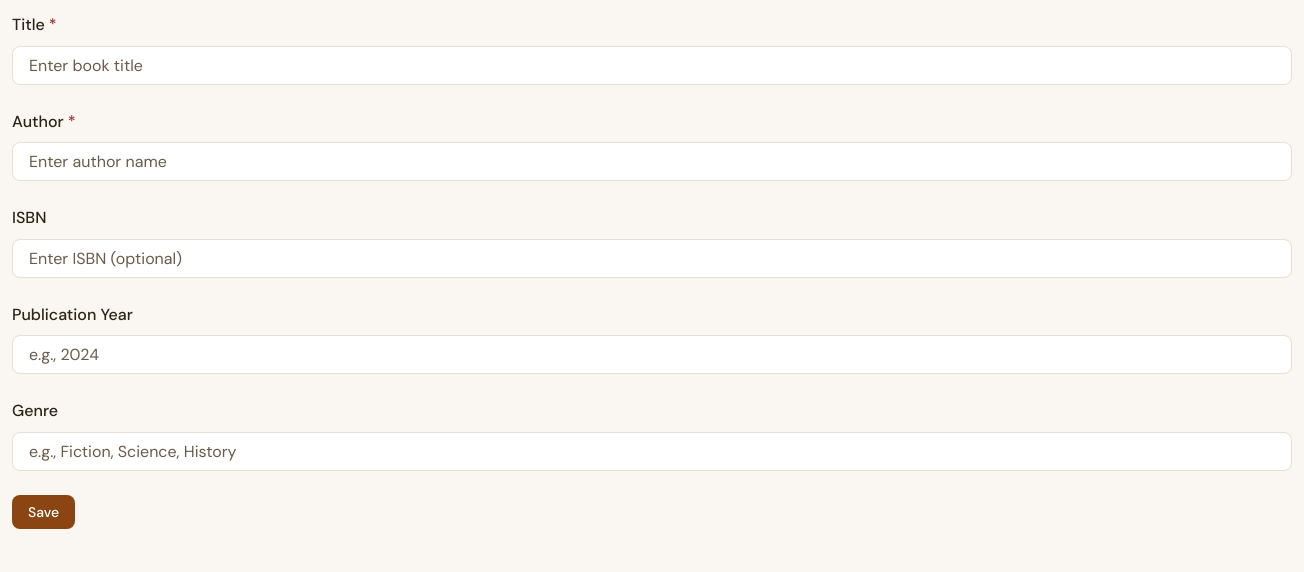
Test case: BookForm Component › should show validation error for empty author on submit
Type "Test Book" into the field with test id "title-input" at (652, 65), box [12,46,1292,85]
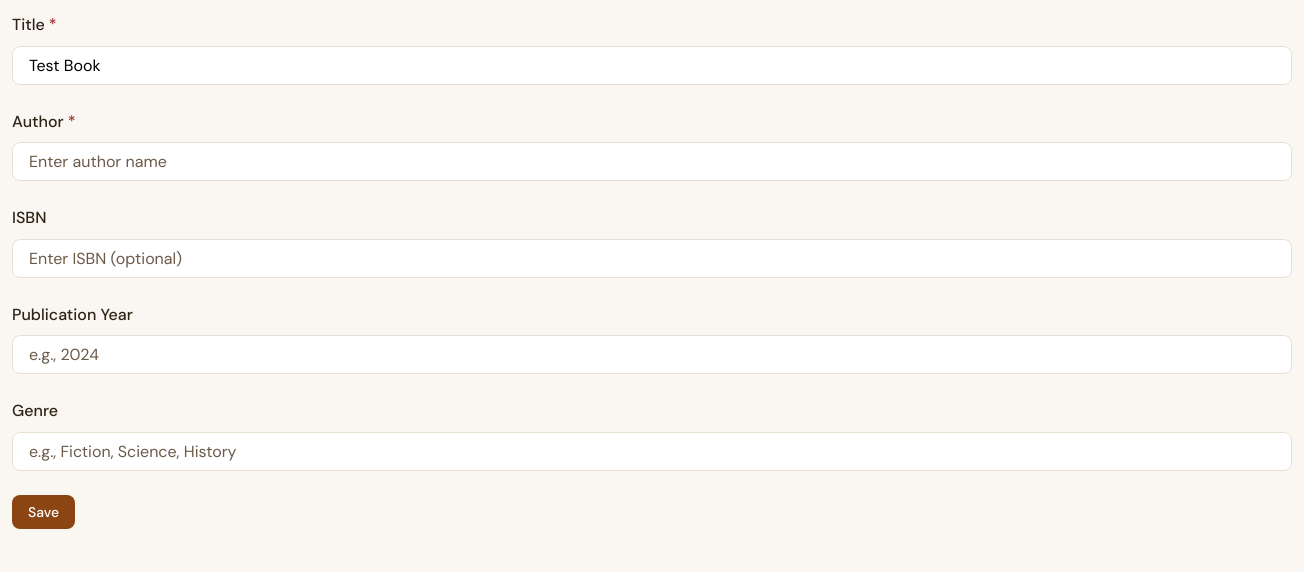
Click the button with test id "submit-btn" at (44, 512), box [12,495,75,529]
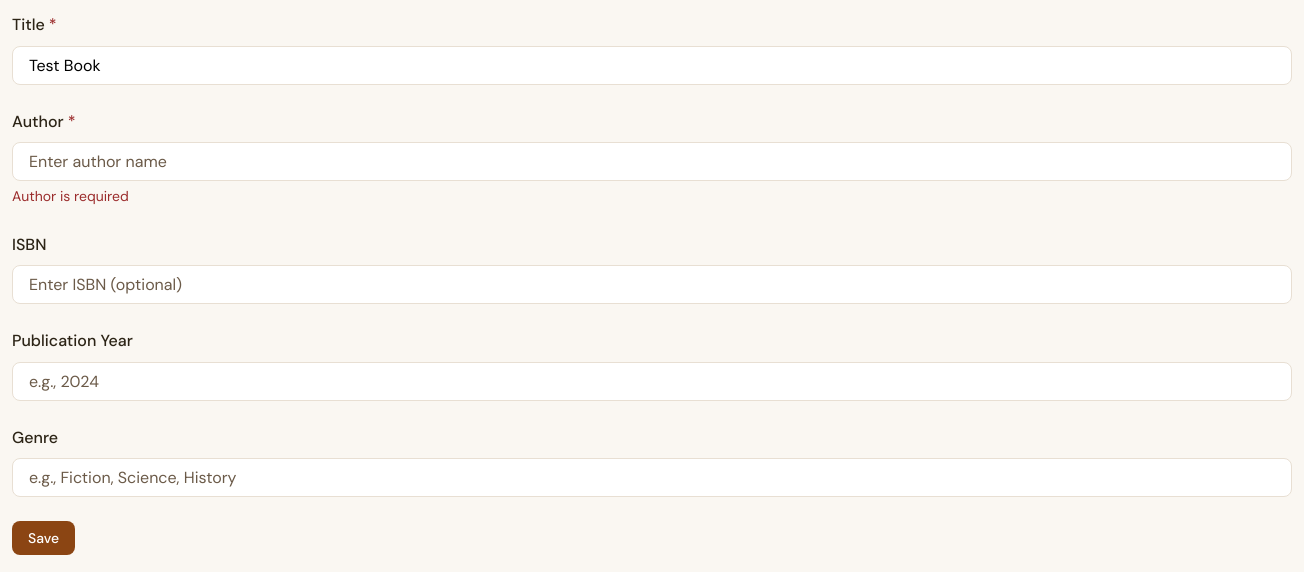
Check: the text "Author is required" is shown, box [12,187,129,205]
